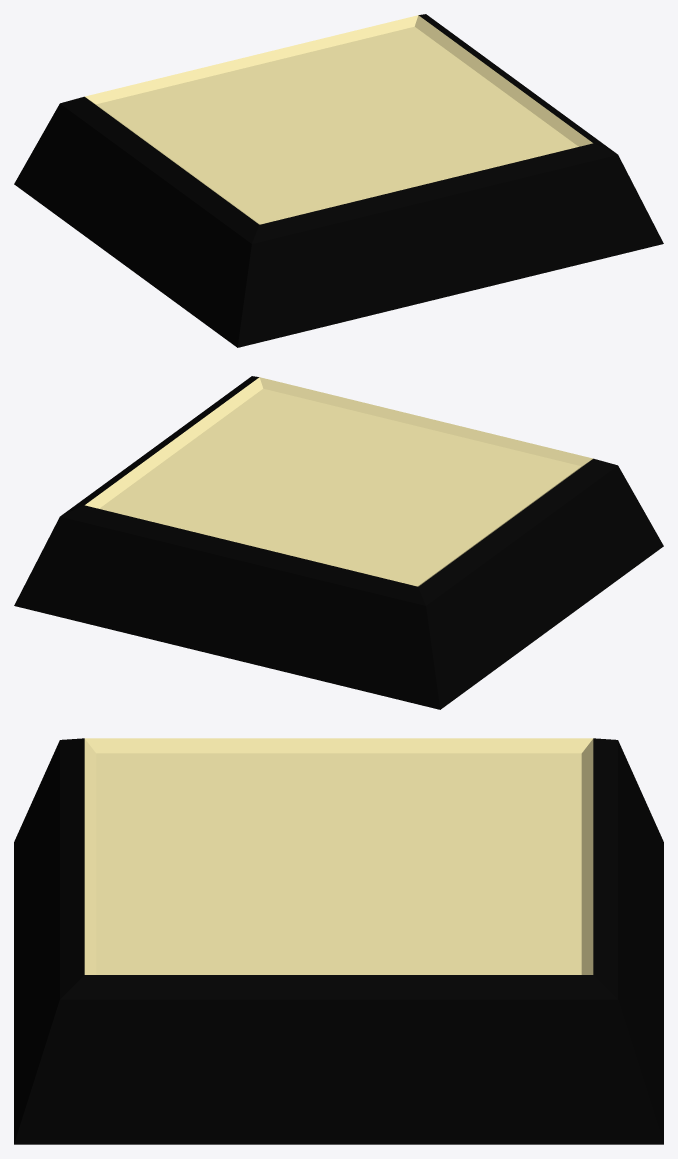
File: Hologram emmiter (square light.fbx
3 views of the same model, one above another, from view 1: azimuth 30°, elevation 25°; view 2: azimuth 150°, elevation 25°; view 3: azimuth 270°, elevation 25° (orthographic). The views are drawn at different scales.
Visible parts, largest first — view 1: Box002; view 2: Box002; view 3: Box002.
Part boxes in pixels (x1,y1,x2,y2): Box002: (14,14,663,347); Box002: (14,376,663,709); Box002: (14,738,663,1144).
Bounding box in the file's own units: 12.01 × 2.53 × 10.91.
